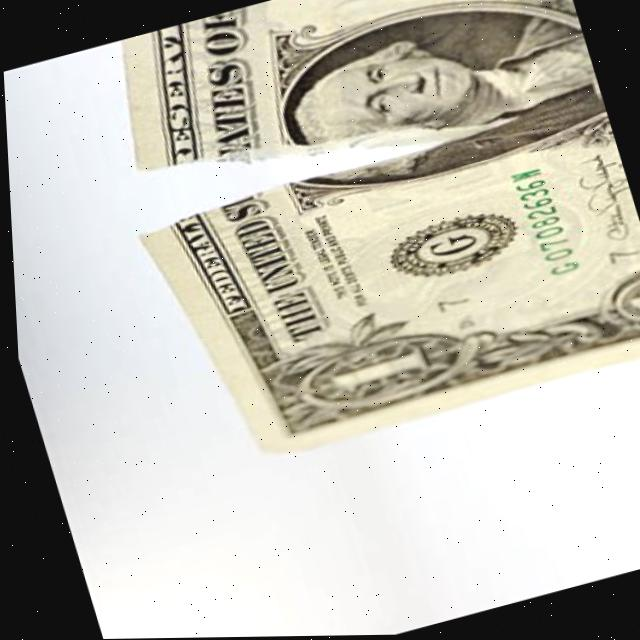banknote: (75, 0, 640, 479), (307, 329, 443, 410)
